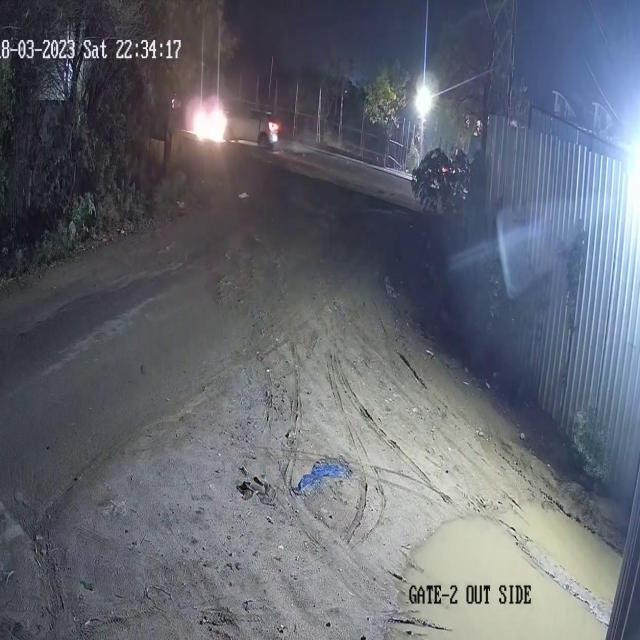accident: (178, 87, 286, 157)
